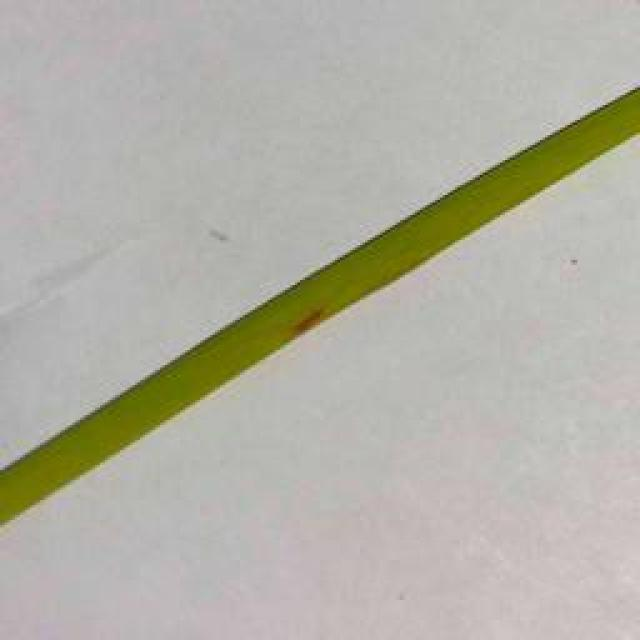Brown_Spot: (287, 303, 330, 346)
